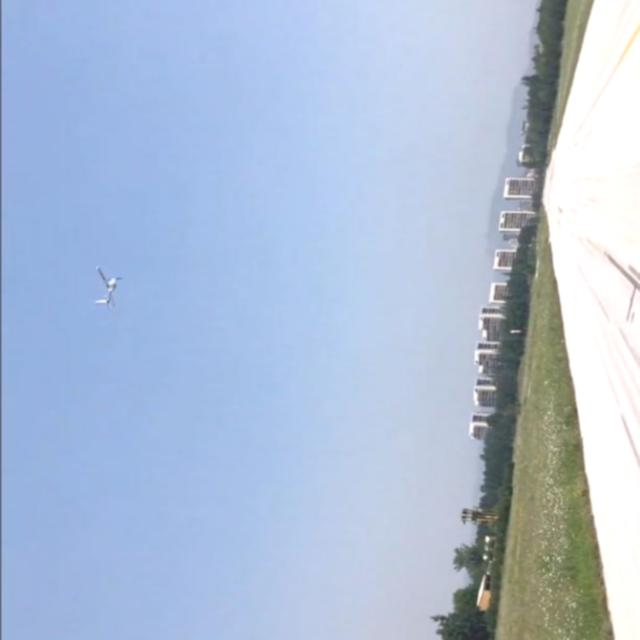plane: (92, 266, 122, 310)
